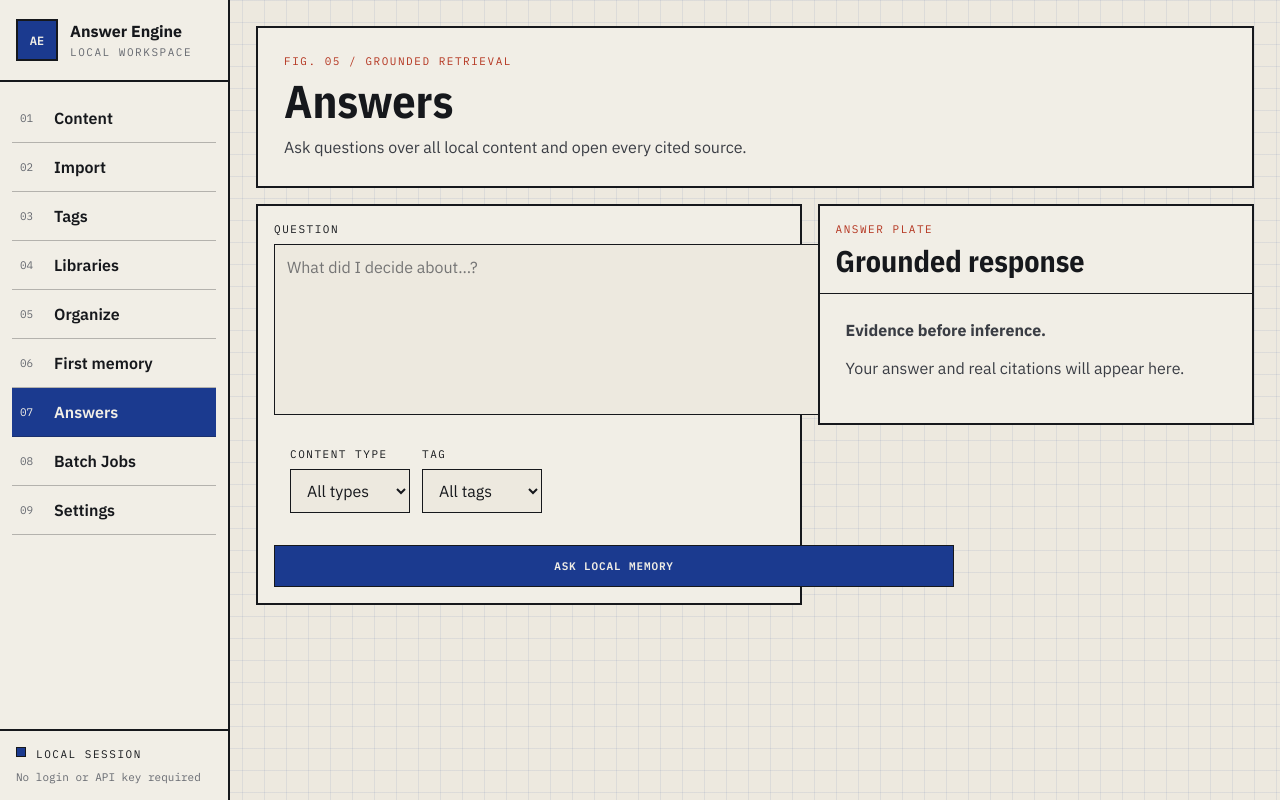
Test: primary local workflows › asks a grounded question and opens the cited content inspector
Type "What changed?" into the text box labelled "Question". click: (614, 329)
box: [274,244,954,415]
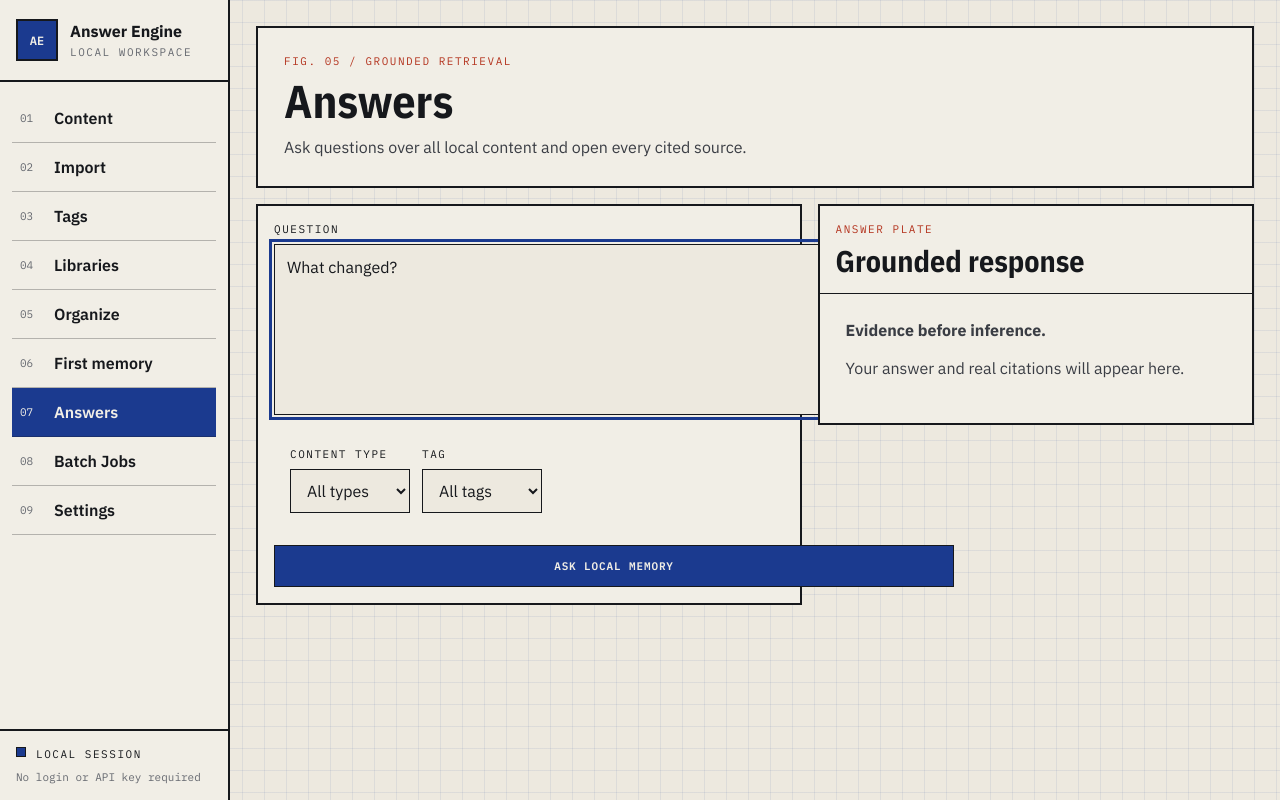
Click the button "Ask local memory". click: (614, 566)
box: [274,545,954,587]
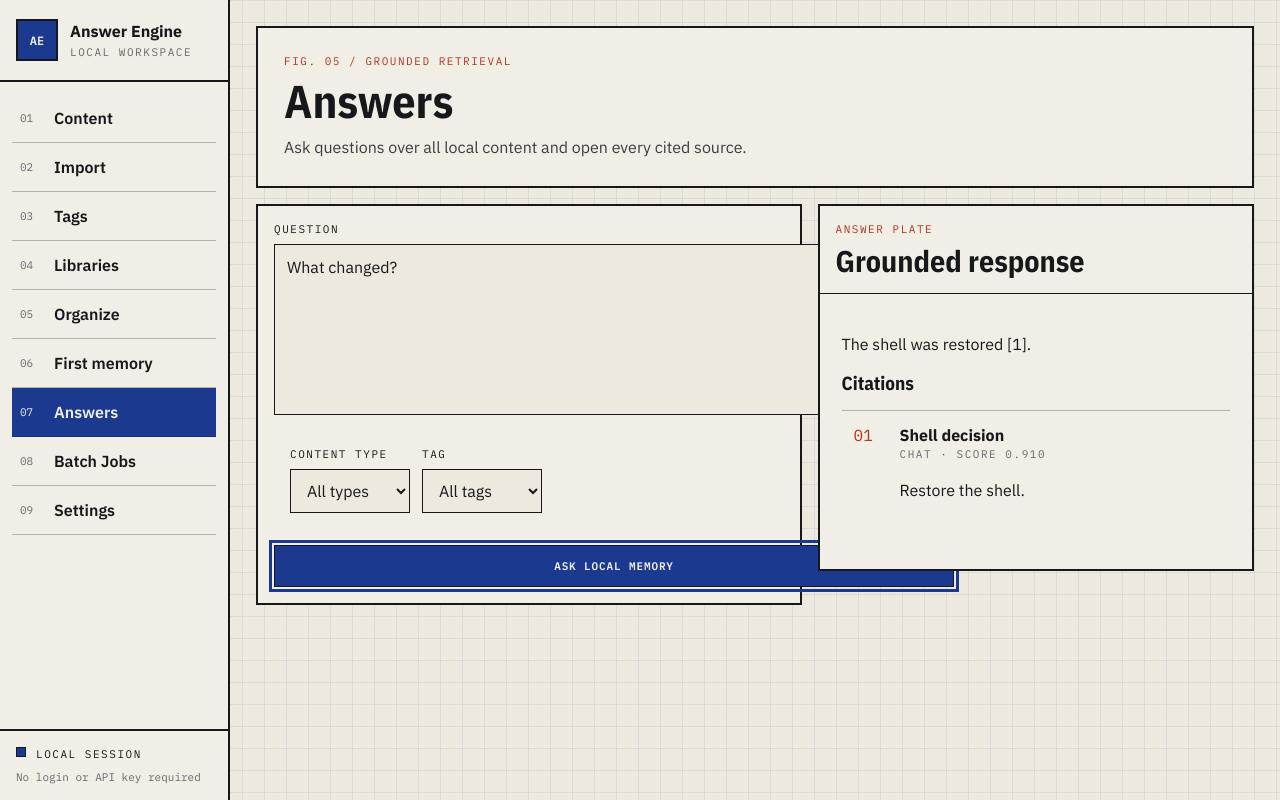
Click the button "01 Shell decision chat · score 0.910 Restore the shell.". click: (952, 435)
box: [842,411,1230,531]
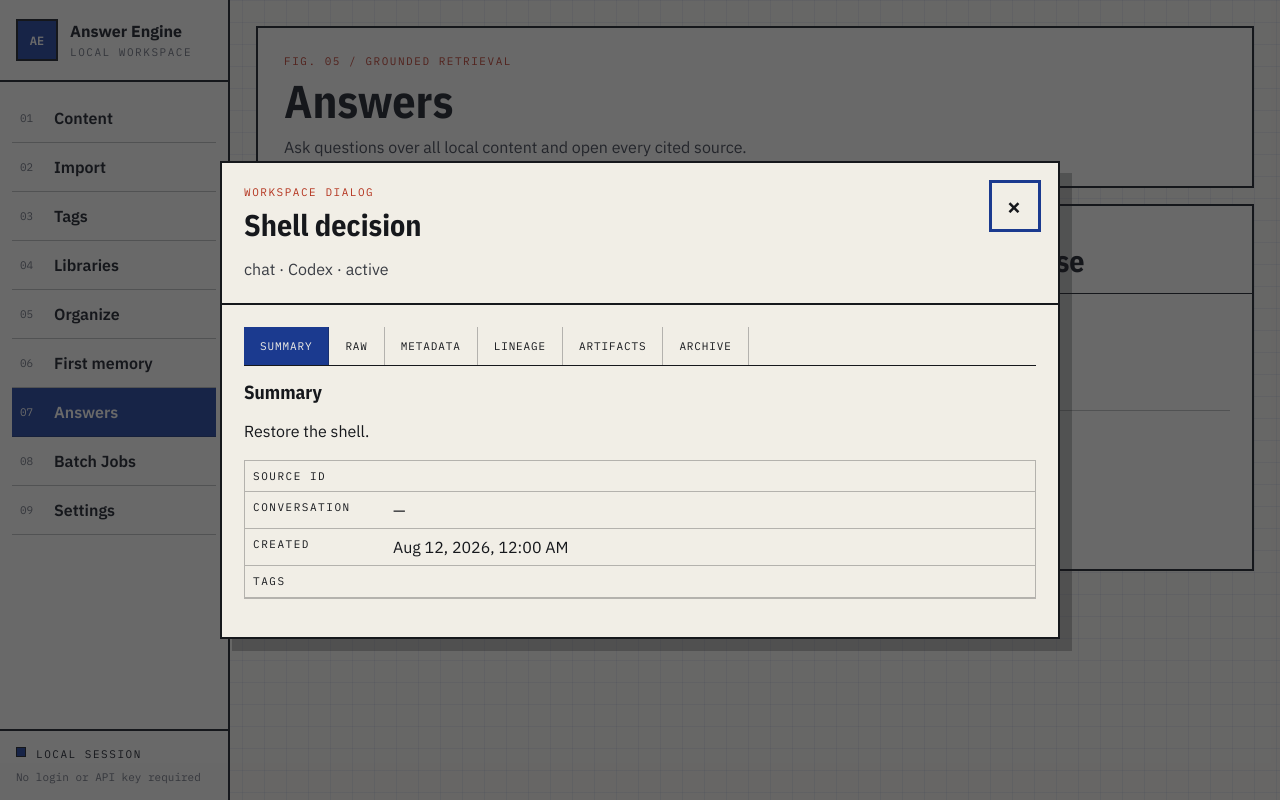
Now the dialog "Shell decision" is shown, box [220,161,1060,639]
